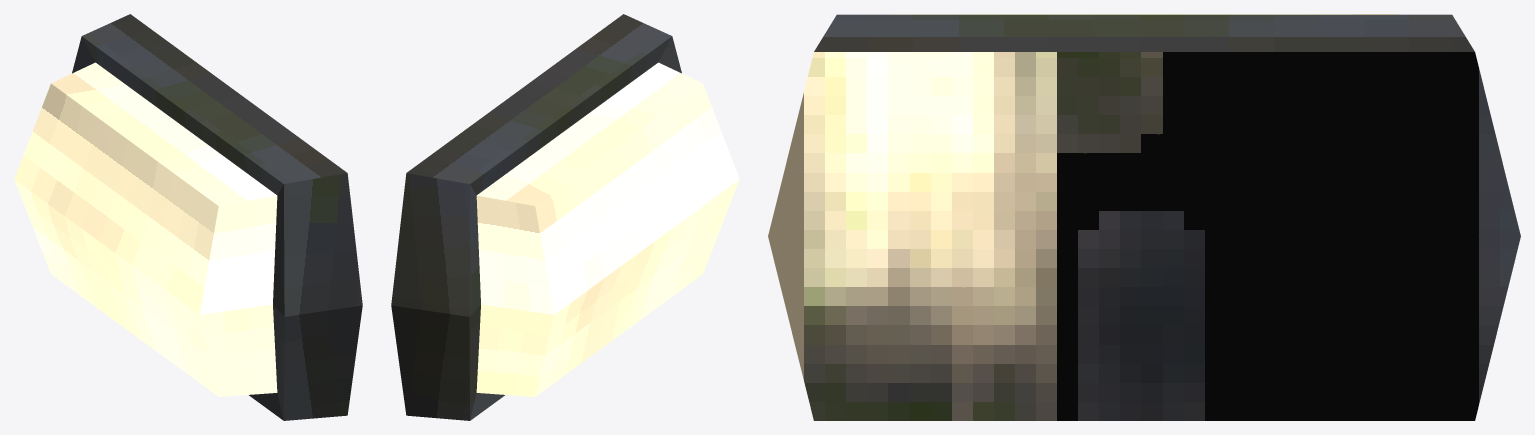
The model's file is Lamp2.fbx.
3 renders of one model, left to right at view 1: azimuth 30°, elevation 25°; view 2: azimuth 150°, elevation 25°; view 3: azimuth 270°, elevation 25°, orthographic. The views are drawn at different scales.
Visible parts, largest first — view 1: Cube; view 2: Cube; view 3: Cube.
Boxes of the visible parts, box(x1,y1,x2,y2) form: Cube: box(14, 14, 362, 420); Cube: box(391, 14, 739, 420); Cube: box(768, 14, 1520, 420).
Size of the model in its own units: 0.1604 by 0.2815 by 0.5205.
Materials: 1 (1 with a texture image).
